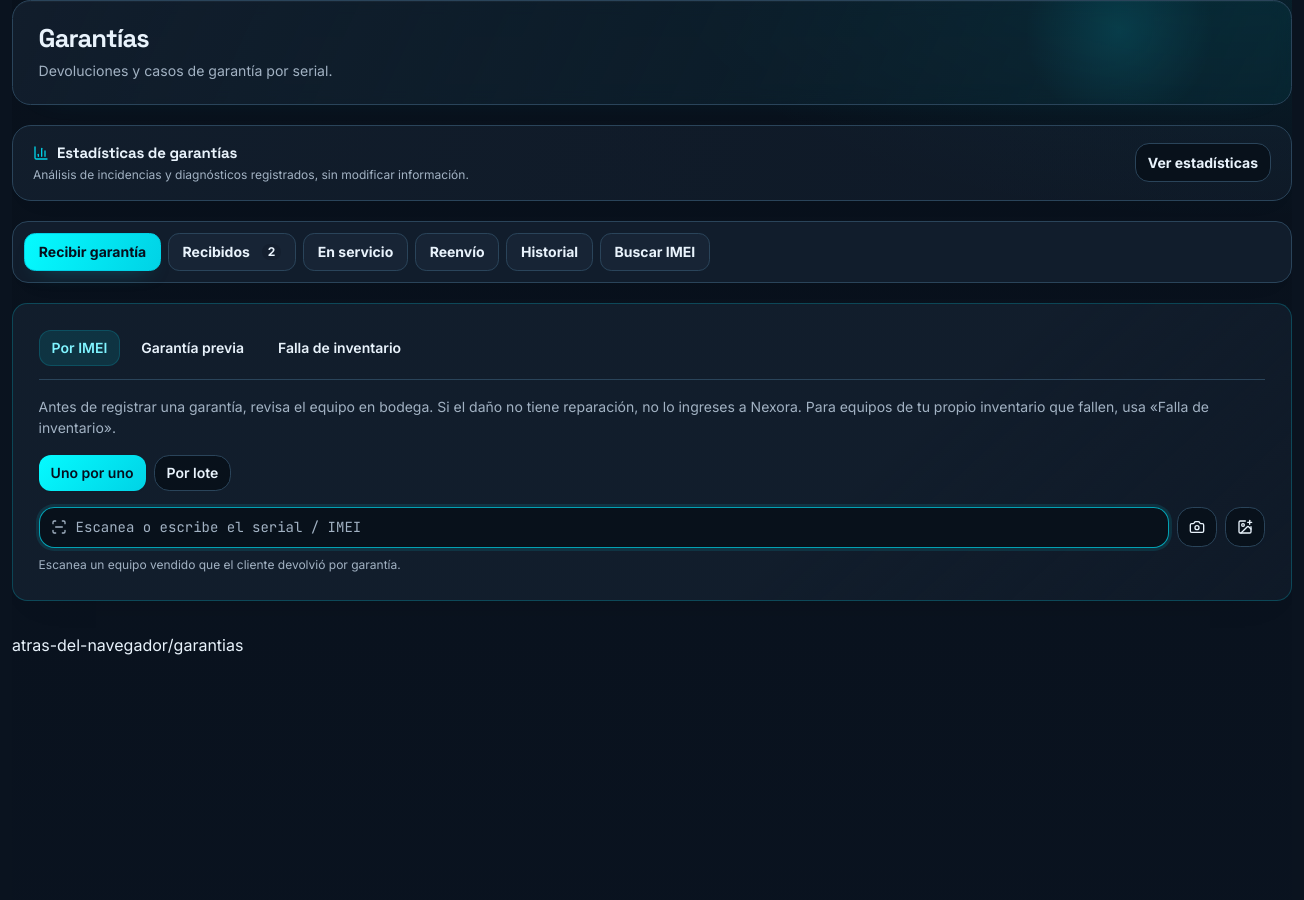
Garantías · pestaña y lotes al ir al detalle y volver › «Ver» y luego «Volver» regresa a Recibidos con el lote todavía desplegado
This screenshot has width=1304, height=900.
Click the button "Recibidos 2" at x=232, y=252, box [168,233,296,271]
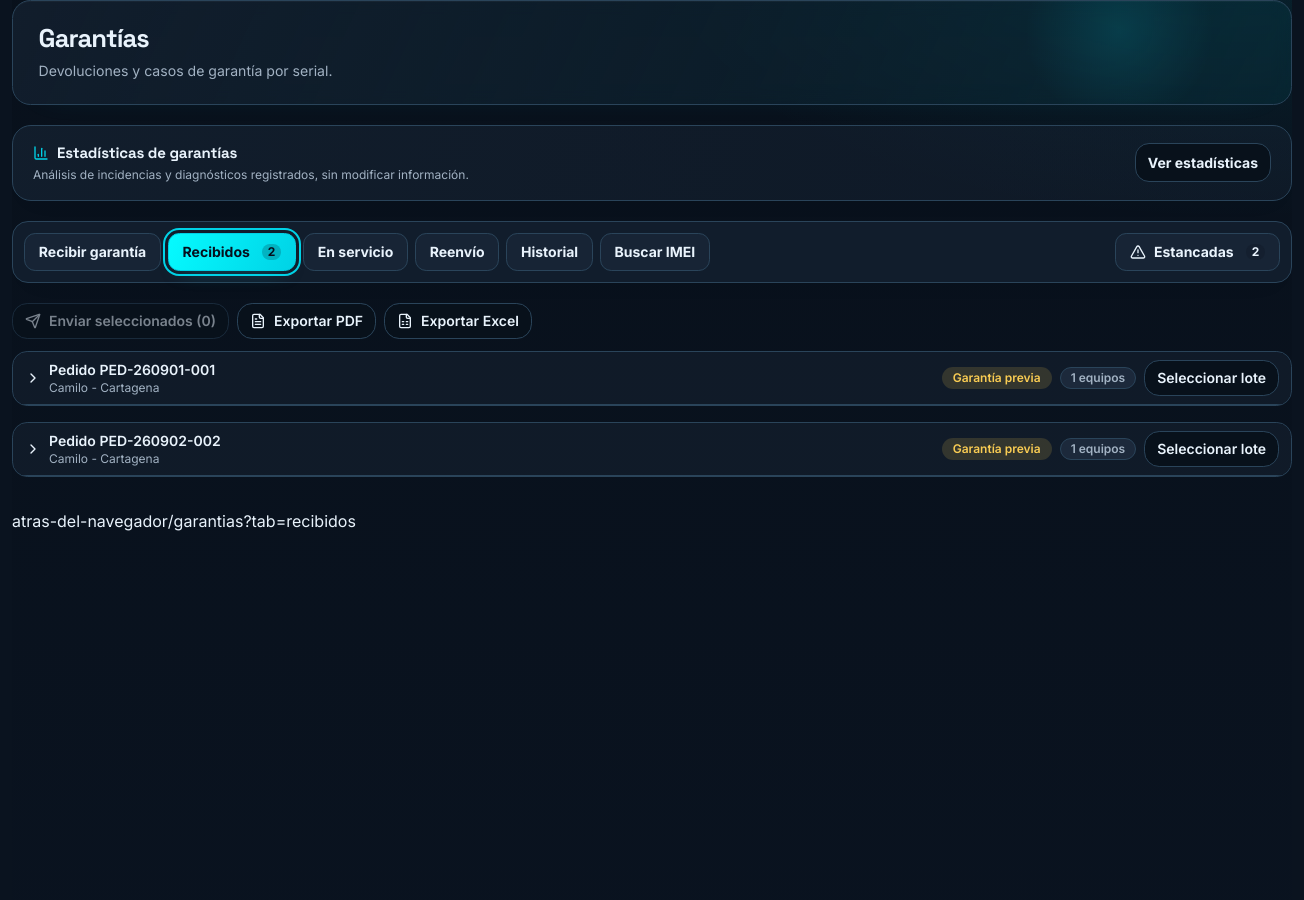
Click the button "Pedido PED-260901-001 Camilo - Cartagena" at x=132, y=370, box [25,360,934,396]
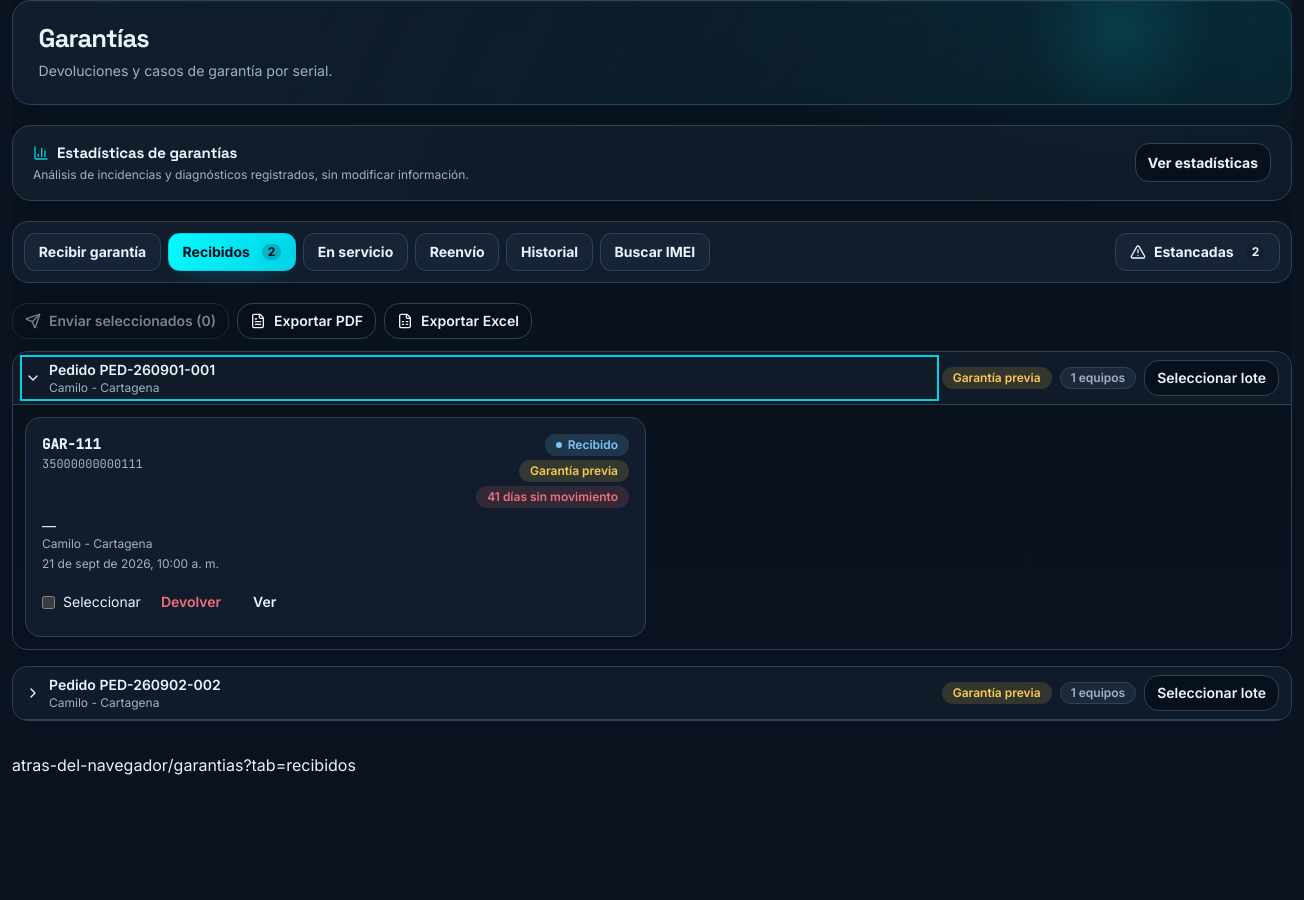
Click the link "Ver" at x=265, y=602, box [253,593,276,610]
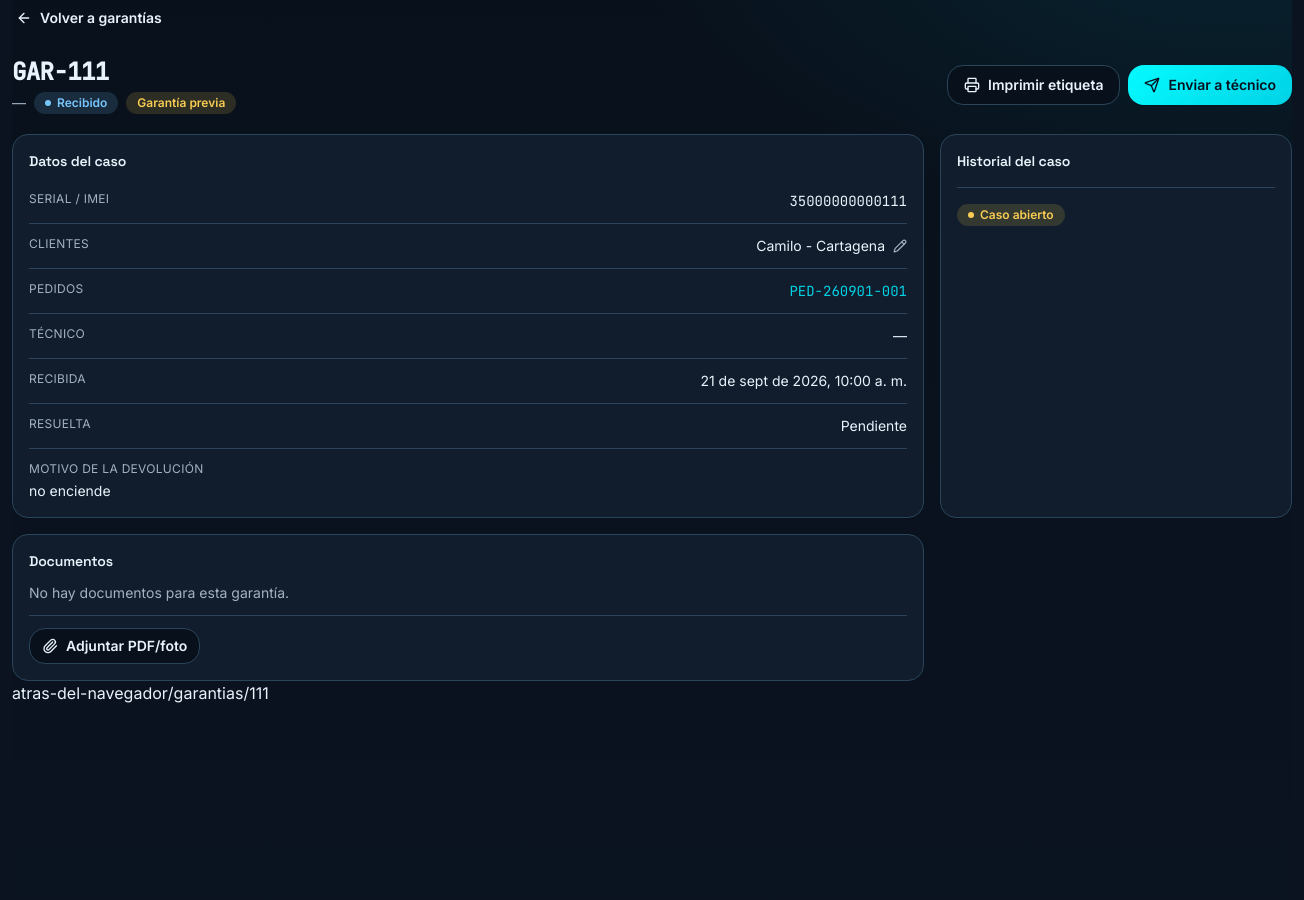
Expected: the text with test id "ruta" reads "/garantias/111", [168,683,269,703]
Click the link "Volver a garantías" at x=89, y=18, box [16,9,162,26]
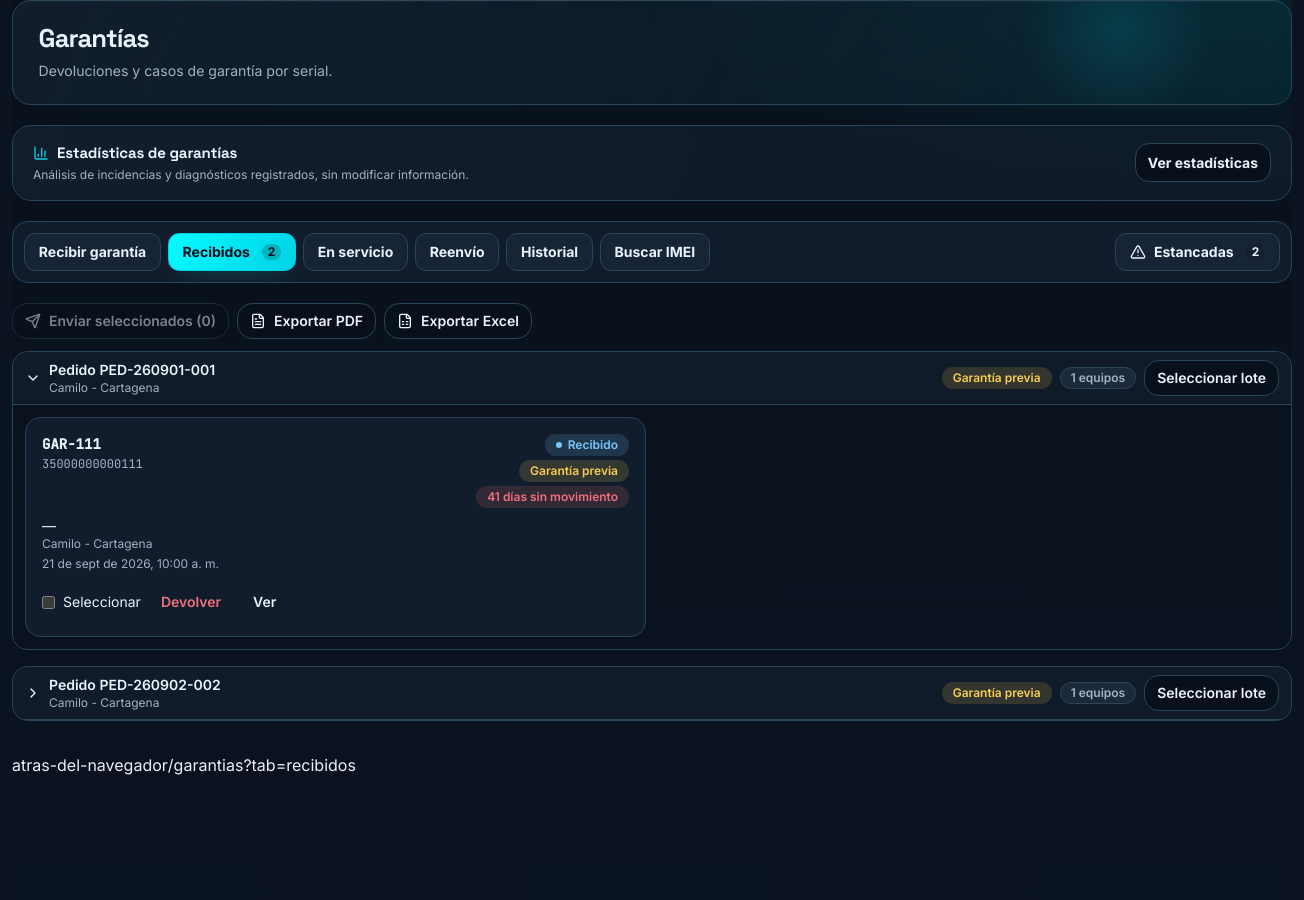
Expected: the button "Pedido PED-260901-001 Camilo - Cartagena" is expanded, [25,360,934,396]
Expected: the text with test id "ruta" reads "/garantias?tab=recibidos", [168,755,356,775]
